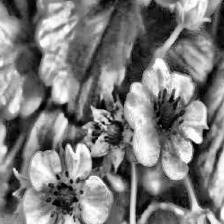Blossom Blight: (43, 168, 88, 224), (149, 85, 189, 144), (91, 107, 134, 153)
